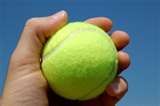tennis ball: (40, 20, 122, 102)
